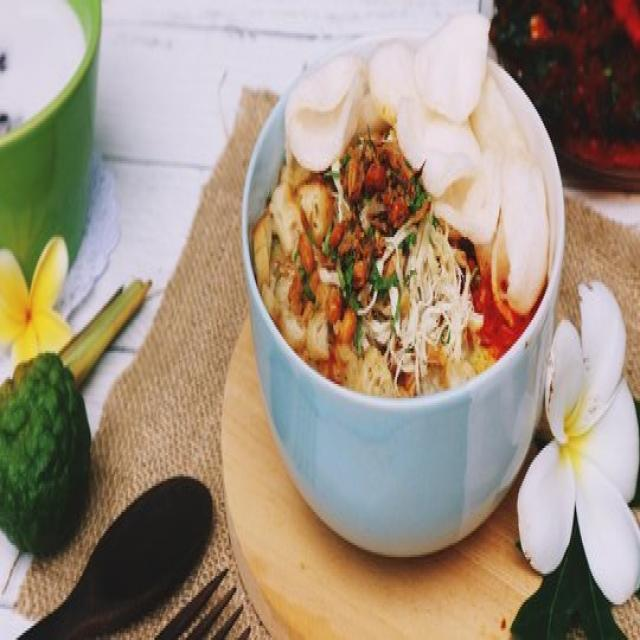bubur ayam: (253, 84, 550, 402)
mangkuk: (240, 13, 566, 561), (0, 0, 102, 287)
